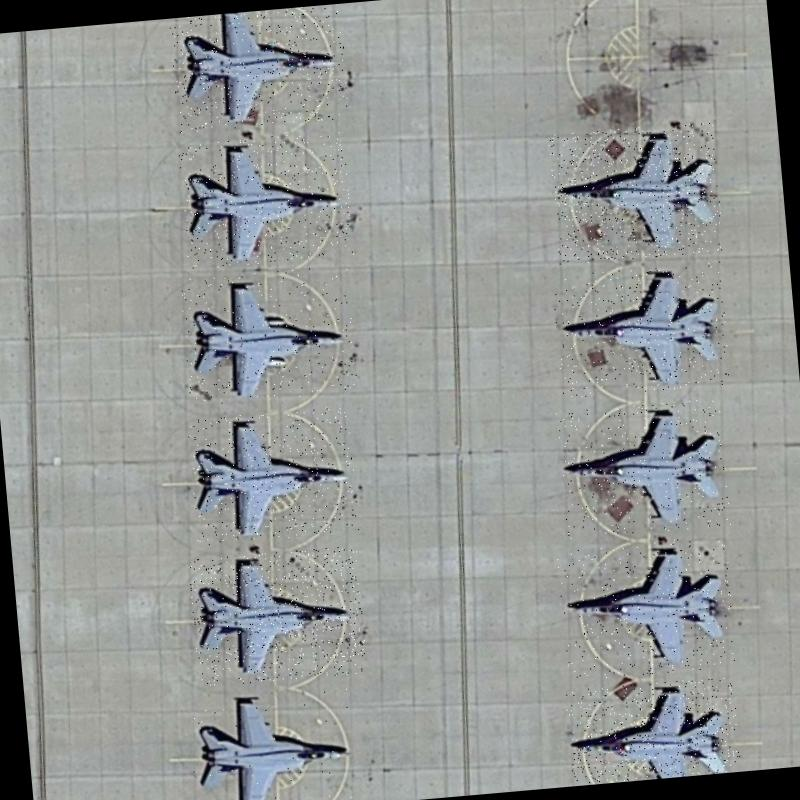A16: (556, 536, 738, 682), (548, 120, 724, 266), (188, 546, 368, 688), (180, 265, 358, 406), (556, 398, 732, 540), (178, 130, 354, 270), (552, 262, 731, 398), (187, 406, 359, 546), (169, 4, 350, 134), (187, 682, 360, 800), (565, 676, 742, 785)
